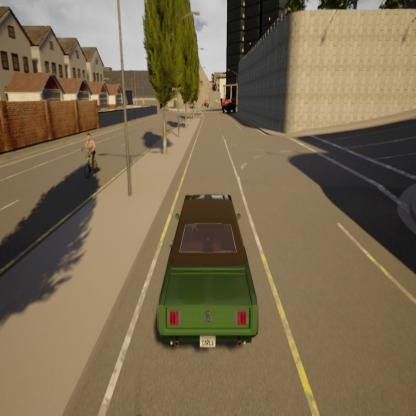Cars: (148, 187, 263, 362), (220, 96, 237, 116)
